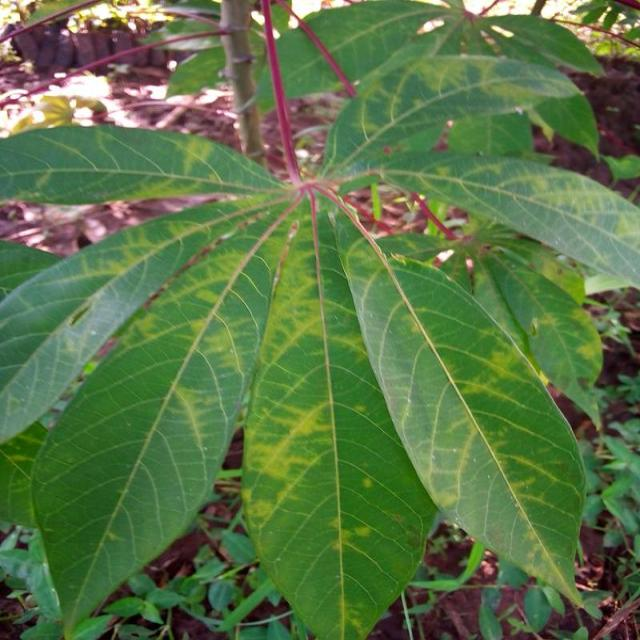cassava leaf: (2, 2, 638, 637), (9, 190, 298, 637), (328, 190, 589, 610), (240, 189, 442, 638)
